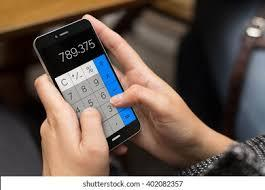Calculator: (47, 34, 139, 134)
